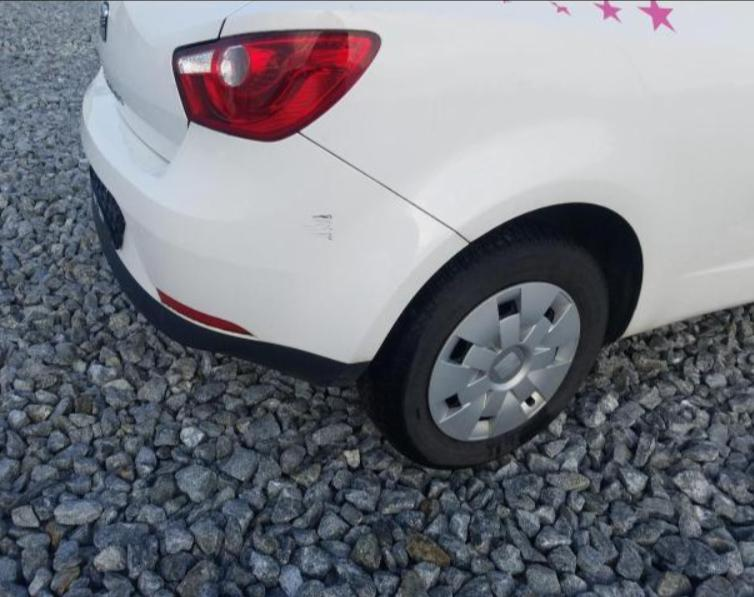Scratch: (303, 212, 335, 245)
